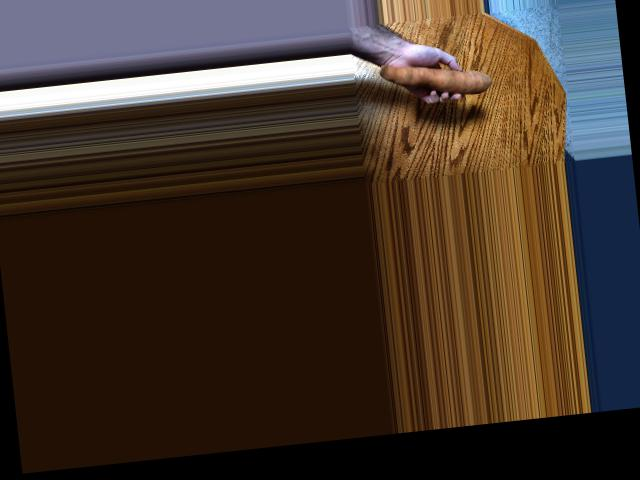sweet_potato: (384, 49, 498, 108)
